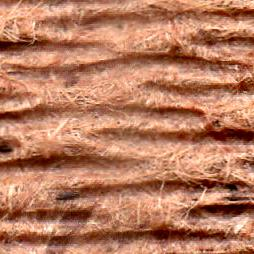egg: (56, 192, 79, 200)
